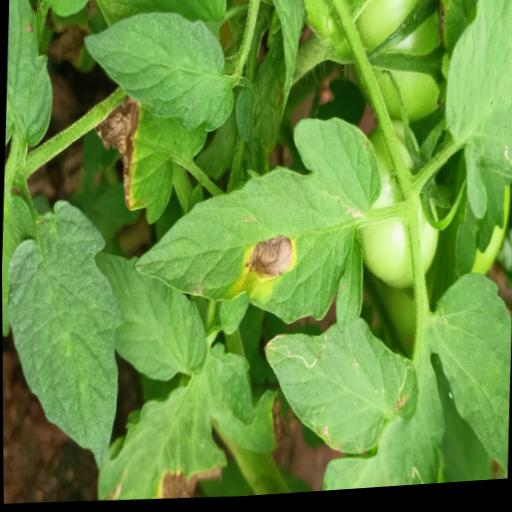Early Blight: (128, 107, 386, 344), (88, 81, 212, 237)
Healthy: (1, 189, 129, 477), (79, 4, 240, 142), (90, 245, 212, 391)
Leaf_Miner: (265, 331, 332, 376)
